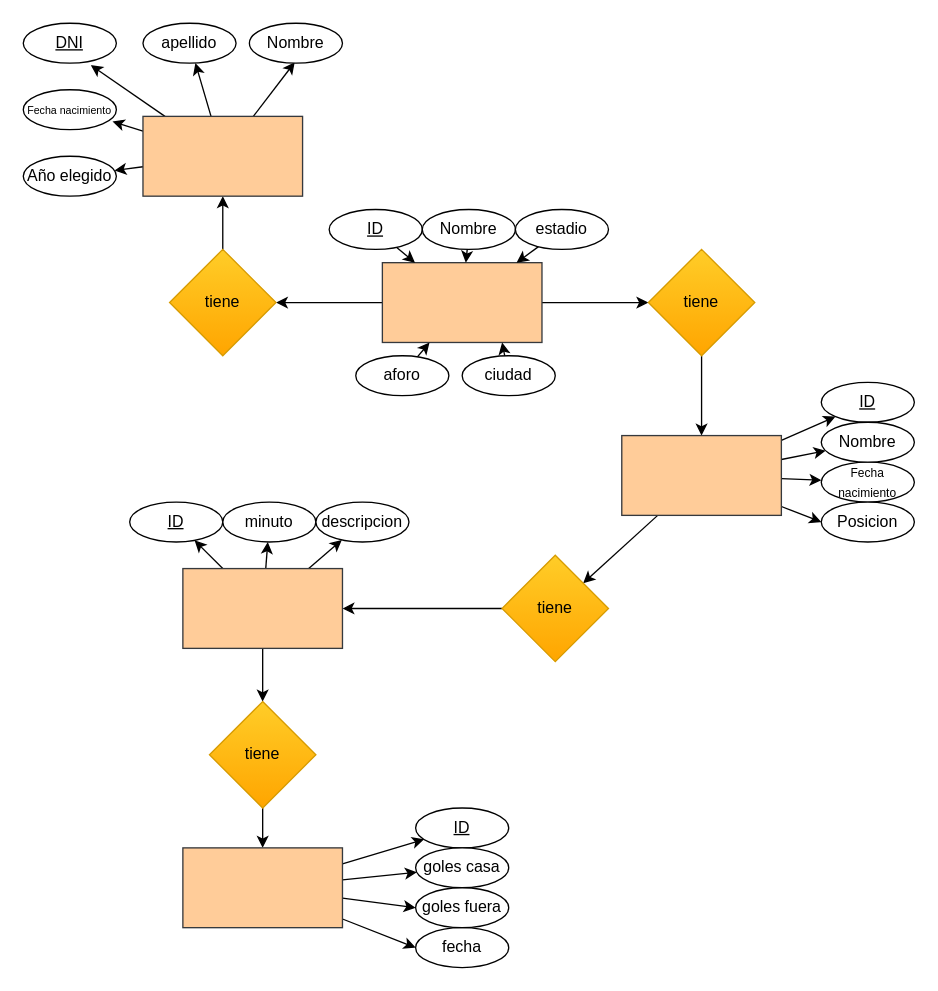
This 938x991 diagram has some shape labels left out. The shapes that lost their labels are listed below. From the top down, each one's box as (x1, y1, x2, y2) in pixels, then its label:
(142, 115, 303, 196): presidente
(381, 261, 542, 342): Equipo
(620, 434, 781, 515): jugadores
(182, 567, 342, 648): Goles
(182, 847, 342, 928): Partidos
